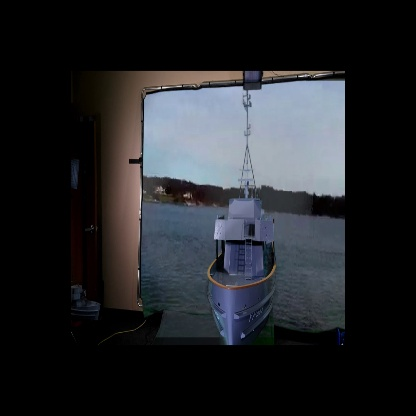YP689: (206, 91, 278, 345)
